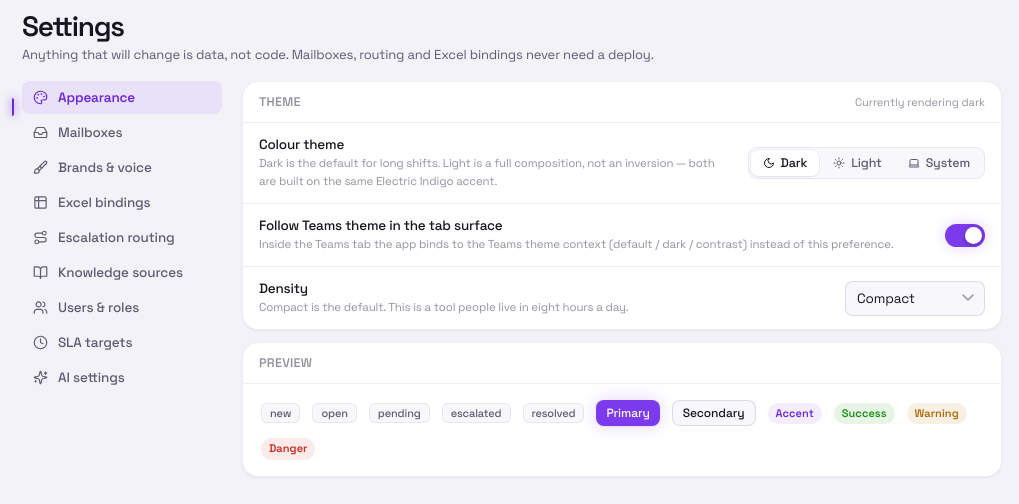
it: Settings screen (AD-106) › Demo mode behavior › shows demo hint in Mailboxes section
Click the button "Mailboxes" at (122,133), box [22,116,222,149]
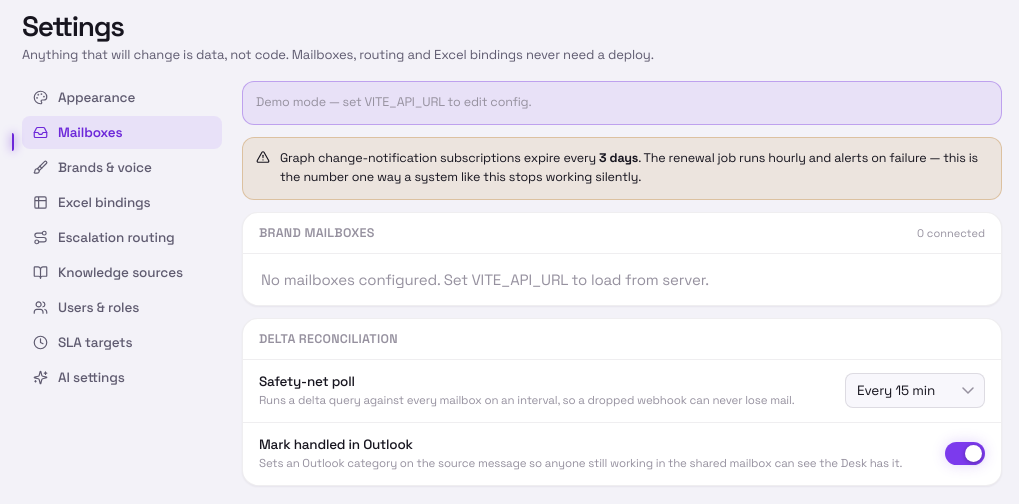
Result: the text "Demo mode — set VITE_API_URL to edit config." is shown at [256,93,532,113]
